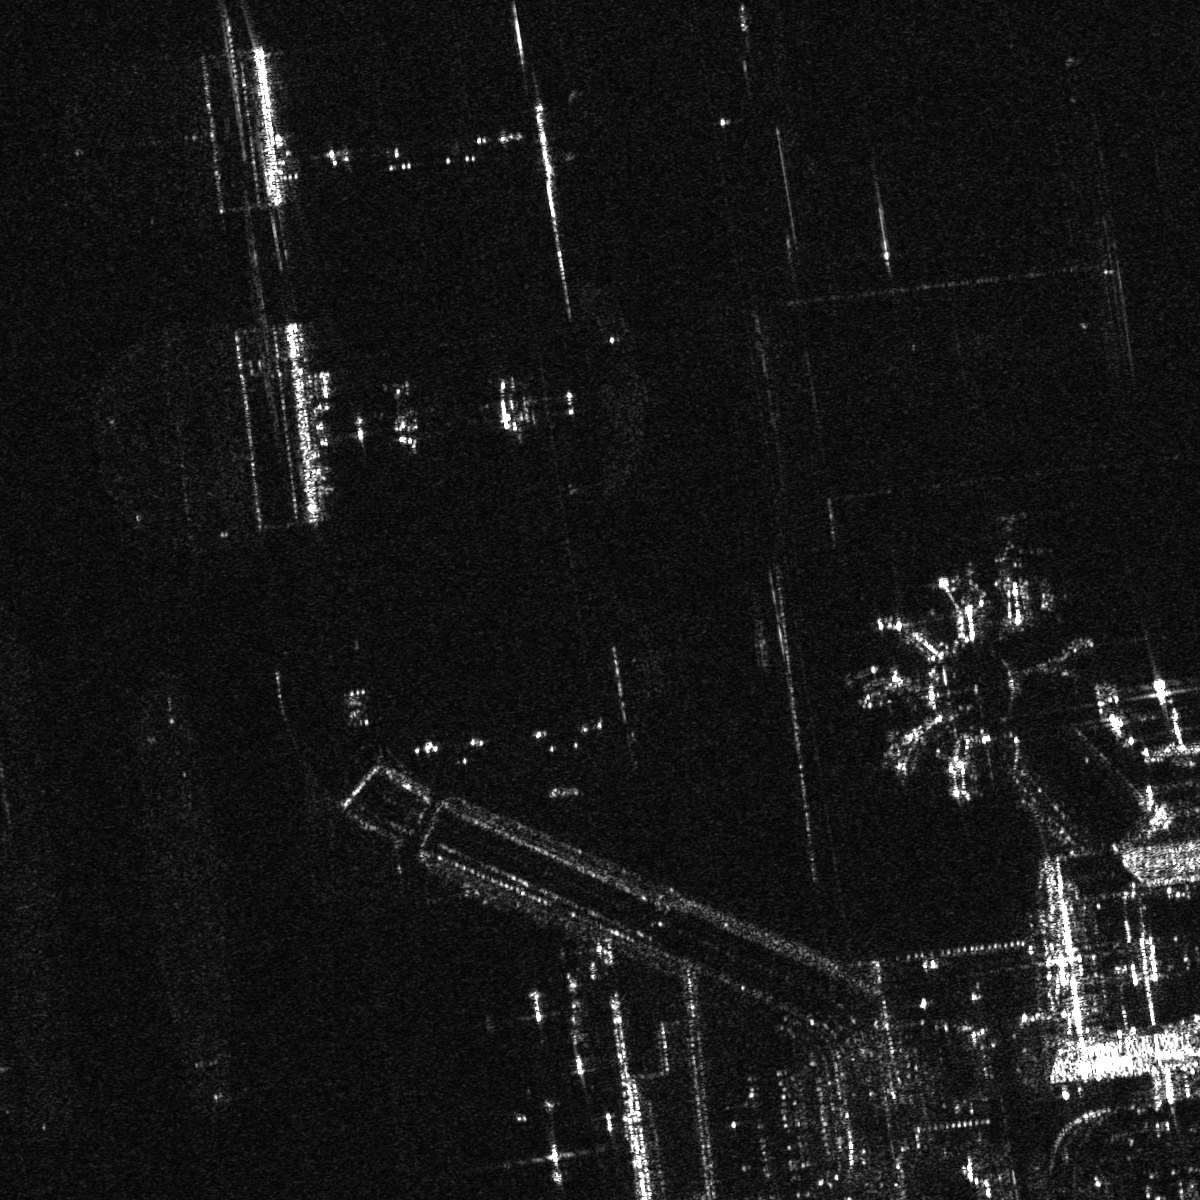A220: (373, 379, 437, 452), (985, 514, 1040, 571)
